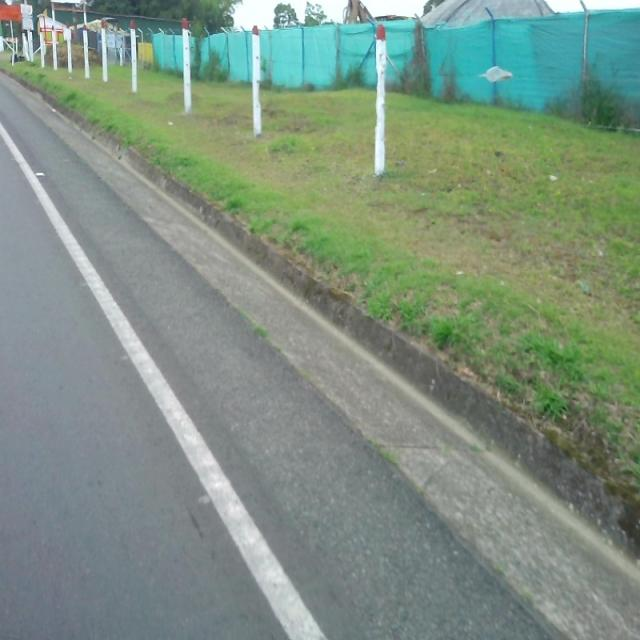DITCH: (1, 59, 639, 638), (1, 130, 638, 638)
